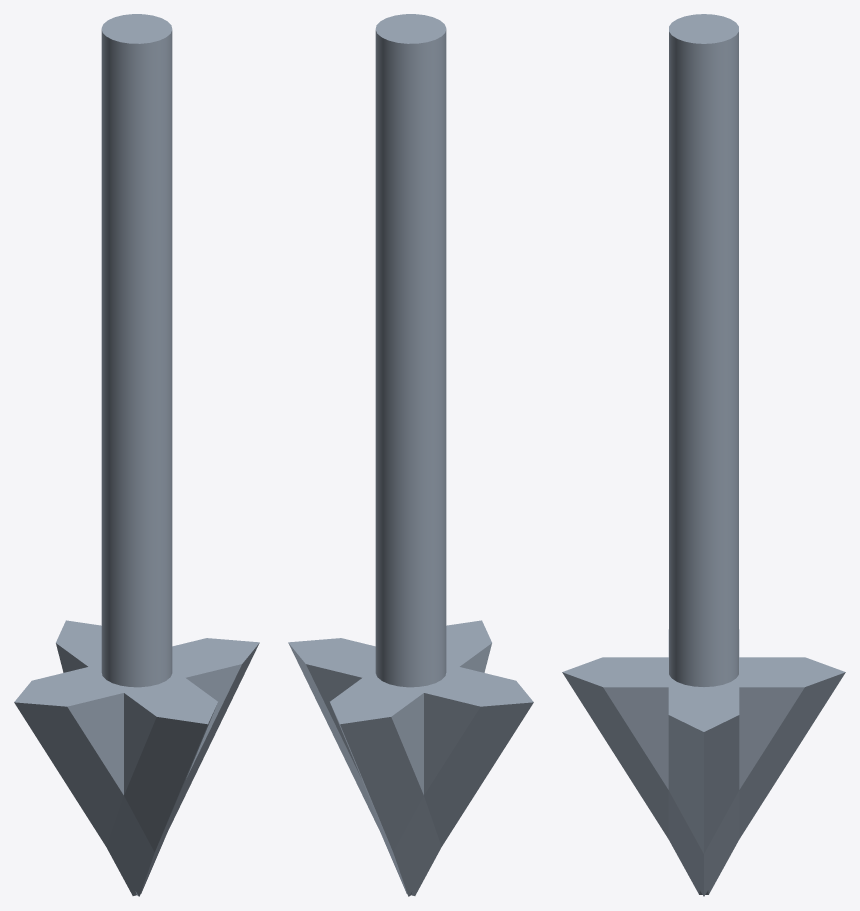
The model's file is arrow.obj.
3 renders of one model, left to right at view 1: azimuth 30°, elevation 25°; view 2: azimuth 150°, elevation 25°; view 3: azimuth 270°, elevation 25°, orthographic.
Parts seen in each view (by area): view 1: 1; view 2: 1; view 3: 1.
Boxes of the visible parts, x1,y1,x2,y2 form: 1: (14,14,259,896); 1: (288,14,533,896); 1: (562,14,845,896).
Size of the model in its own units: 4 by 13.46 by 4.
